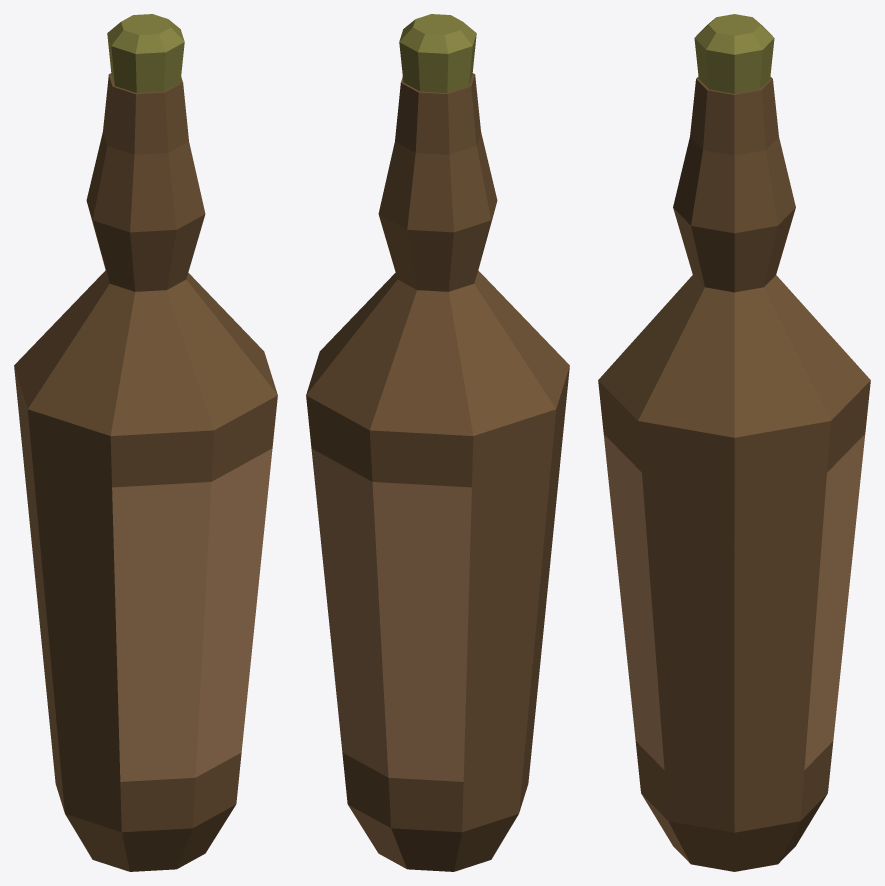
Rendered from Bottle_2_Brown.fbx.
3 views of the same model, side by side, from view 1: azimuth 30°, elevation 25°; view 2: azimuth 150°, elevation 25°; view 3: azimuth 270°, elevation 25° (orthographic).
Parts seen in each view (by area): view 1: Bottle_2_Brown_Part_1, Bottle_2_Brown_Part_2, Bottle_2_Brown_Part_3; view 2: Bottle_2_Brown_Part_1, Bottle_2_Brown_Part_2, Bottle_2_Brown_Part_3; view 3: Bottle_2_Brown_Part_1, Bottle_2_Brown_Part_2, Bottle_2_Brown_Part_3.
Part boxes in pixels (x1=…): Bottle_2_Brown_Part_1: x1=14, y1=73, x2=277, y2=871; Bottle_2_Brown_Part_2: x1=112, y1=448, x2=272, y2=781; Bottle_2_Brown_Part_3: x1=107, y1=14, x2=184, y2=92; Bottle_2_Brown_Part_1: x1=306, y1=73, x2=569, y2=871; Bottle_2_Brown_Part_2: x1=311, y1=448, x2=471, y2=781; Bottle_2_Brown_Part_3: x1=399, y1=14, x2=476, y2=92; Bottle_2_Brown_Part_1: x1=598, y1=76, x2=870, y2=871; Bottle_2_Brown_Part_2: x1=603, y1=434, x2=865, y2=769; Bottle_2_Brown_Part_3: x1=694, y1=14, x2=774, y2=93.
Bounding box in the file's own units: 12 × 39.85 × 12.
